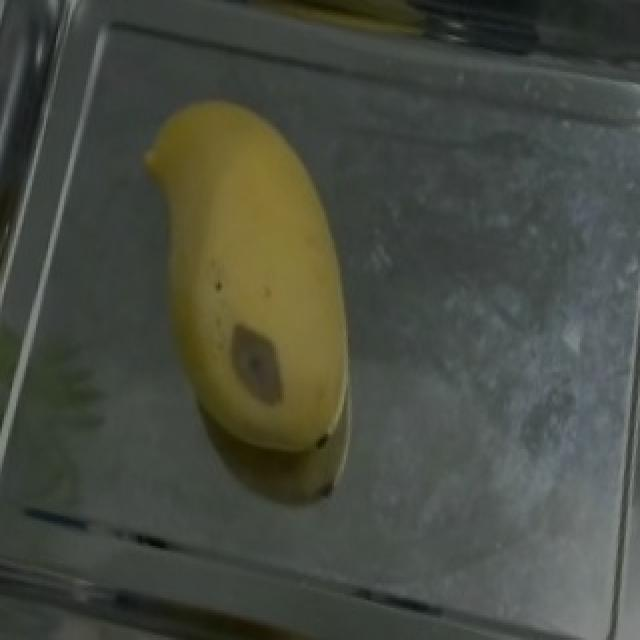fruit: (110, 74, 422, 454)
